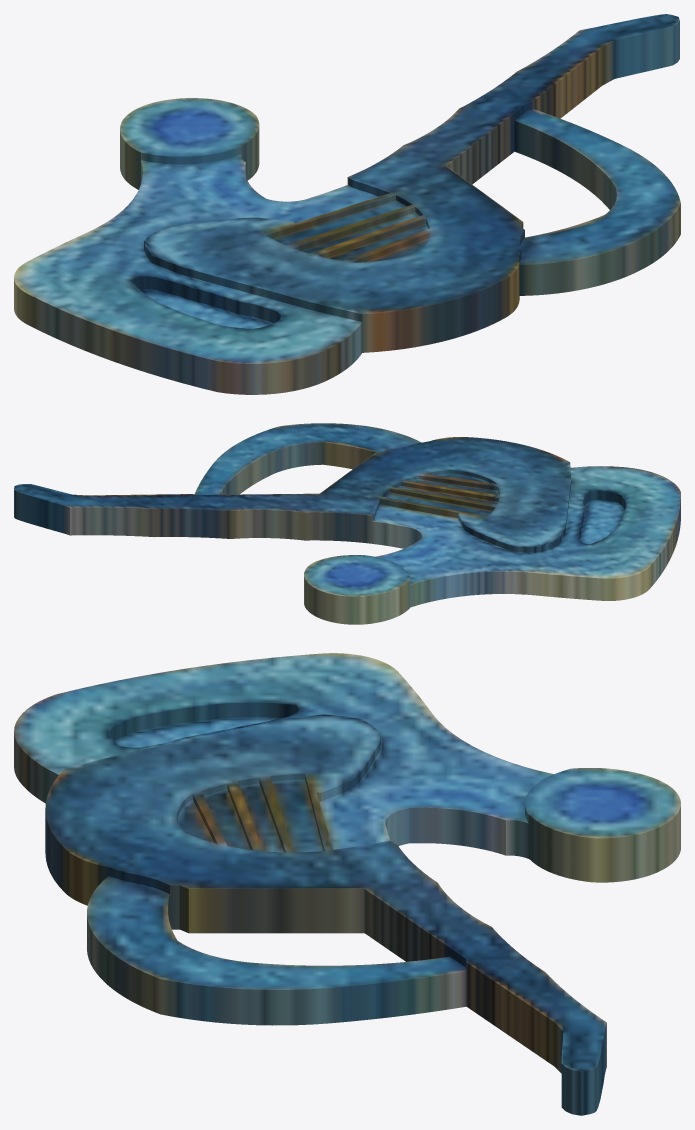
File: El origen de nuestra 8.dae
3 views of the same model, one above another, from view 1: azimuth 30°, elevation 25°; view 2: azimuth 150°, elevation 25°; view 3: azimuth 270°, elevation 25° (orthographic). The views are drawn at different scales.
Parts seen in each view (by area): view 1: SketchUp (×2); view 2: SketchUp (×2); view 3: SketchUp (×2).
Part boxes in pixels (x1,y1,x2,y2): SketchUp (×2): (14,14,680,394); SketchUp (×2): (14,423,680,624); SketchUp (×2): (14,653,680,1115).
Size of the model in its own units: 19.4 by 12.8 by 0.9375.
1 material, 1 textured.
